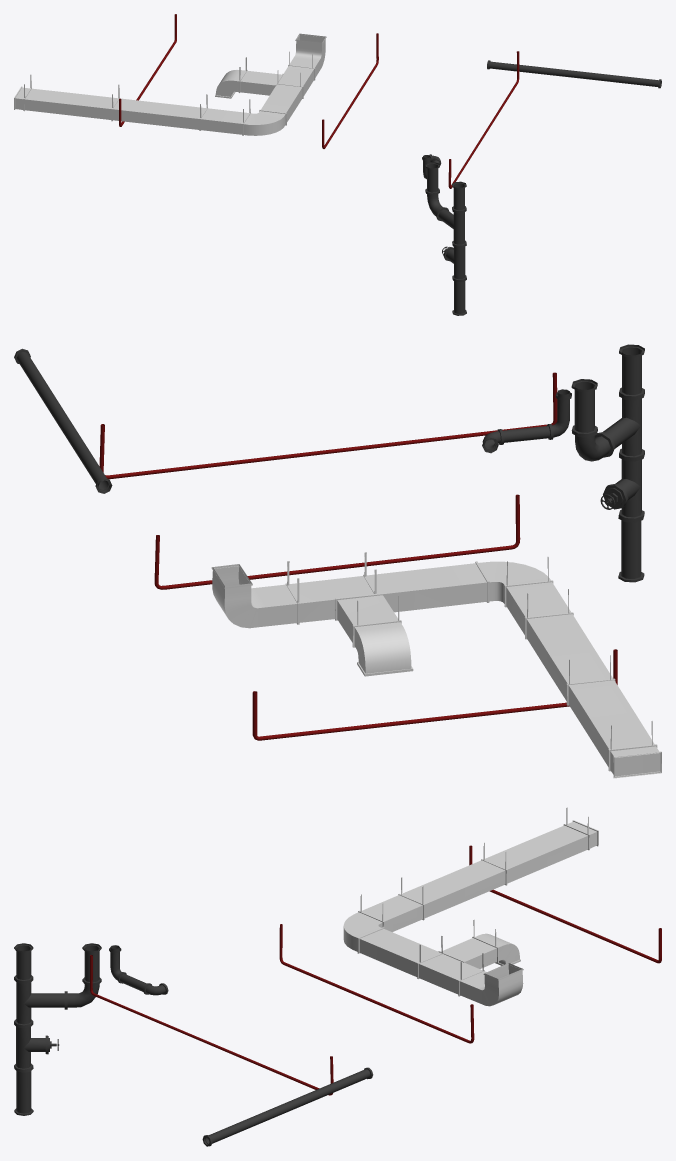
The model's file is SM_H_Building_Tide_WardenBoxroom_08a_ATLAS.fbx.
The picture shows the model from 3 angles, top to bottom: view 1: azimuth 30°, elevation 25°; view 2: azimuth 150°, elevation 25°; view 3: azimuth 270°, elevation 25°; orthographic projection. The views are drawn at different scales.
Parts seen in each view (by area): view 1: SM_H_Building_Tide_WardenBoxroom_08a_ATLAS; view 2: SM_H_Building_Tide_WardenBoxroom_08a_ATLAS; view 3: SM_H_Building_Tide_WardenBoxroom_08a_ATLAS.
Part boxes in pixels (box(x1,y1,x2,y2)): SM_H_Building_Tide_WardenBoxroom_08a_ATLAS: box(14, 14, 661, 315); SM_H_Building_Tide_WardenBoxroom_08a_ATLAS: box(14, 344, 661, 778); SM_H_Building_Tide_WardenBoxroom_08a_ATLAS: box(14, 807, 661, 1146).
Size of the model in its own units: 2155 by 1860 by 529.
